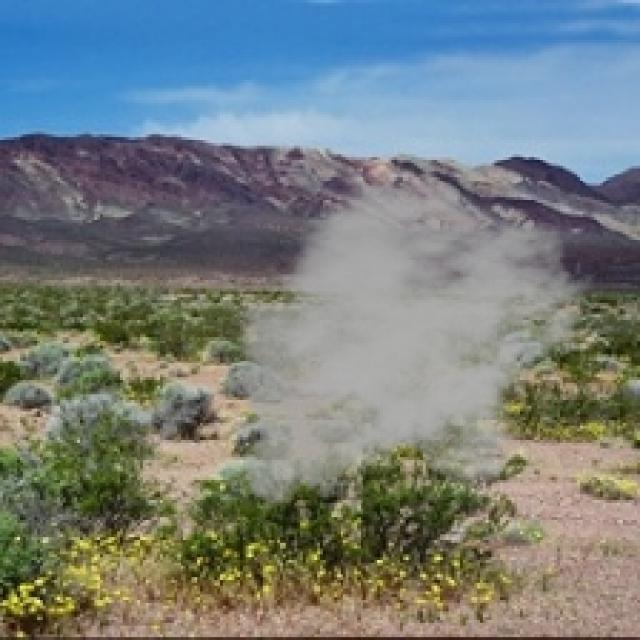Smoke: (222, 177, 598, 520)
